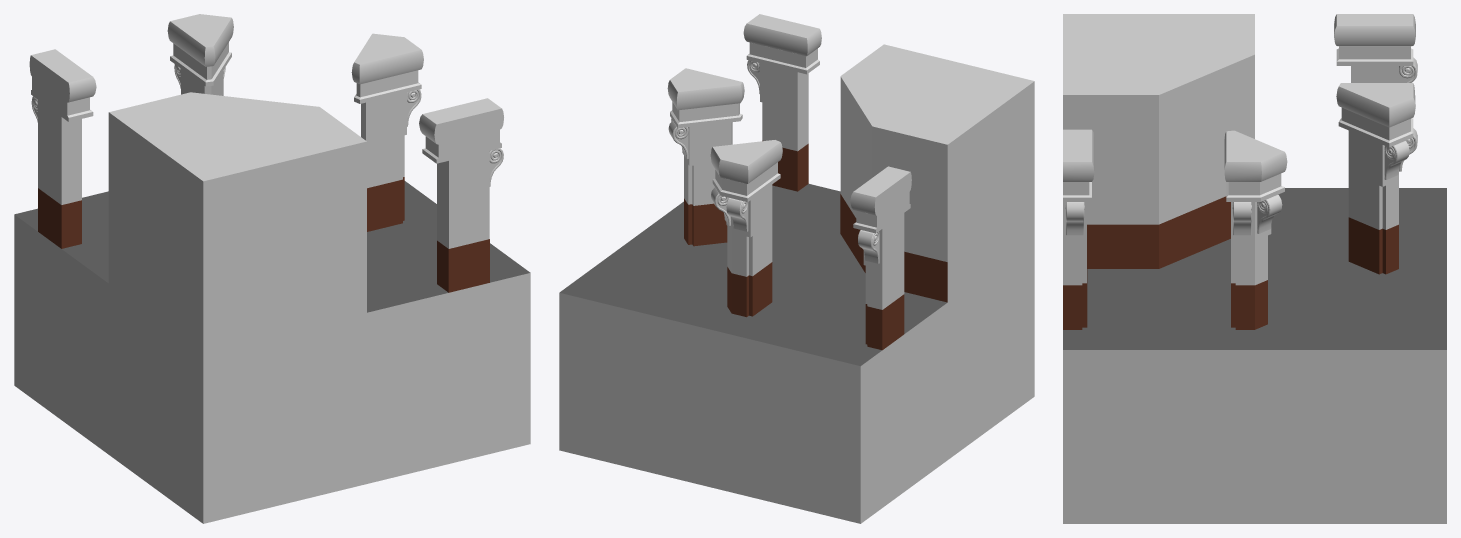
Rendered from House_Base_Corner_cvx_var0.fbx.
3 views of the same model, side by side, from view 1: azimuth 30°, elevation 25°; view 2: azimuth 150°, elevation 25°; view 3: azimuth 270°, elevation 25° (orthographic). The views are drawn at different scales.
Parts seen in each view (by area): view 1: House_Base_Corner_cvx_MESH; view 2: House_Base_Corner_cvx_MESH; view 3: House_Base_Corner_cvx_MESH.
Part boxes in pixels (bbox=[...]): House_Base_Corner_cvx_MESH: bbox=[14, 14, 530, 523]; House_Base_Corner_cvx_MESH: bbox=[559, 14, 1034, 523]; House_Base_Corner_cvx_MESH: bbox=[1063, 14, 1446, 523].
Bounding box in the file's own units: 4 × 4 × 4.
